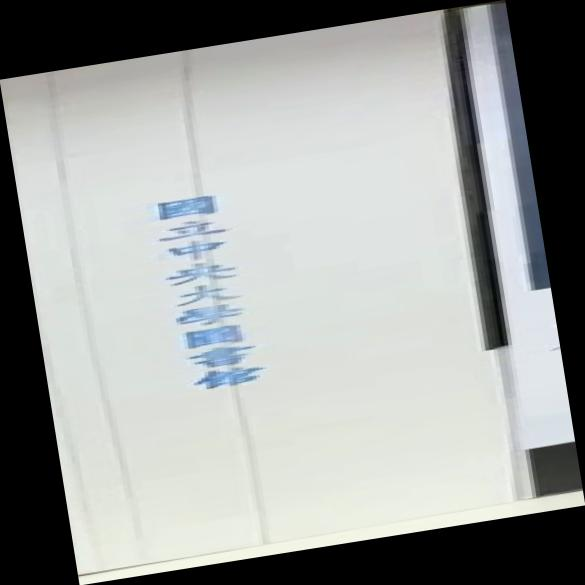backward: (1, 1, 582, 585)
